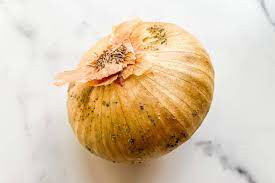onion: (62, 16, 218, 170)
